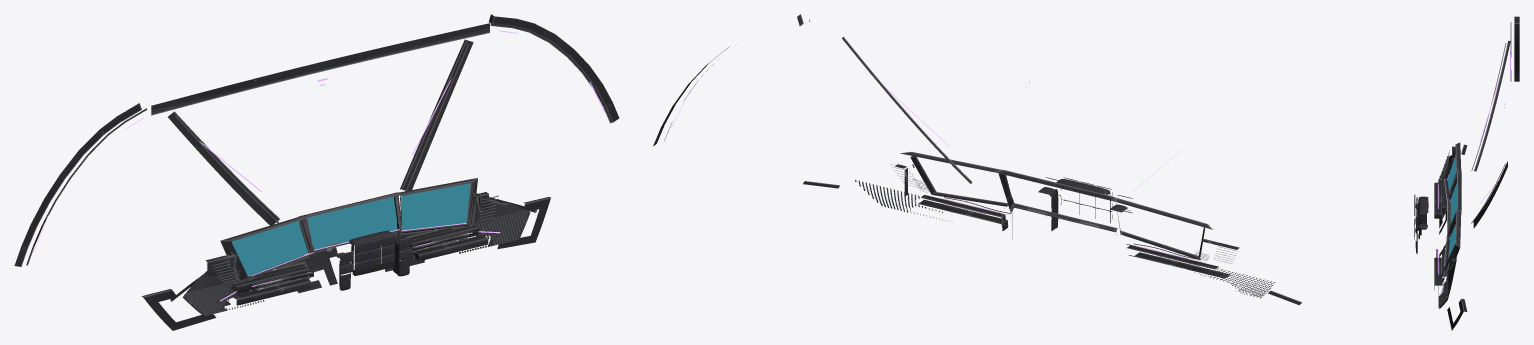
File: sd_hayalet_cockpit_r003_m.glb
The picture shows the model from 3 angles, left to right: view 1: azimuth 30°, elevation 25°; view 2: azimuth 150°, elevation 25°; view 3: azimuth 270°, elevation 25°; orthographic projection. The views are drawn at different scales.
Parts seen in each view (by area): view 1: LOD0_body, SCR_RADAR, SCR_HULL, SCR_SYS, LOD0_emit; view 2: LOD0_body; view 3: LOD0_body, LOD0_emit, SCR_RADAR, SCR_SYS, SCR_HULL.
Part boxes in pixels (x1=…): LOD0_body: x1=14, y1=14, x2=619, y2=330; SCR_RADAR: x1=307, y1=197, x2=397, y2=249; SCR_HULL: x1=401, y1=183, x2=470, y2=230; SCR_SYS: x1=231, y1=221, x2=307, y2=275; LOD0_emit: x1=33, y1=30, x2=605, y2=301; LOD0_body: x1=653, y1=14, x2=1301, y2=305; LOD0_body: x1=1414, y1=16, x2=1519, y2=330; LOD0_emit: x1=1438, y1=25, x2=1510, y2=293; SCR_RADAR: x1=1450, y1=183, x2=1456, y2=223; SCR_SYS: x1=1447, y1=156, x2=1456, y2=192; SCR_HULL: x1=1448, y1=224, x2=1455, y2=257.
Size of the model in its own units: 4.82 by 1.52 by 0.8674.
3 materials, 1 textured.
